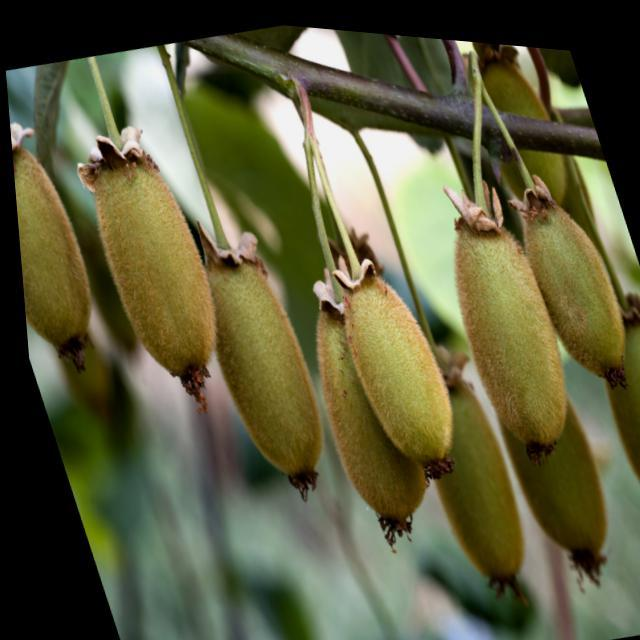kiwi: (59, 111, 239, 403), (416, 164, 586, 455), (174, 217, 338, 499), (280, 260, 432, 527), (469, 332, 625, 577), (389, 330, 534, 586), (319, 242, 466, 473), (501, 162, 638, 385), (9, 118, 113, 381), (448, 32, 585, 221), (568, 270, 640, 519)
